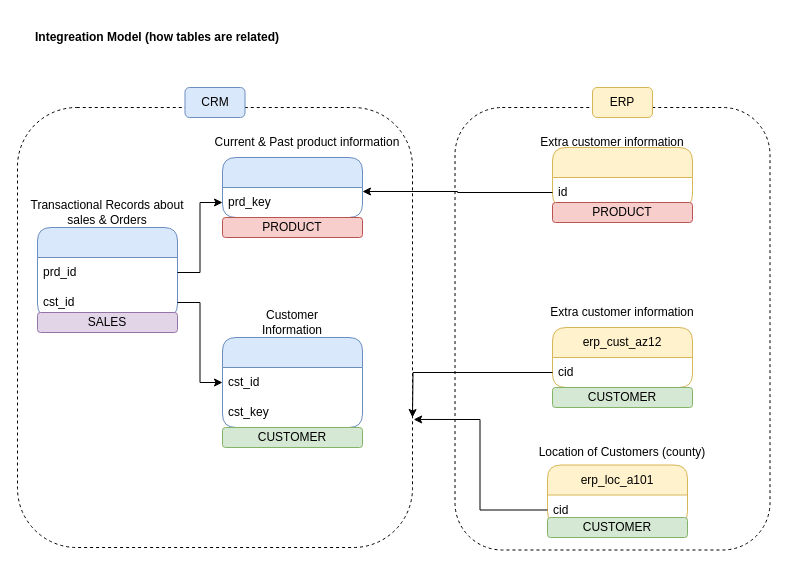
Image size: 788x567. Some labels were removed from this diagram. The shapes that lost their labels are listed below. From the top down, each one's box as (x1, y1, x2, y2) in pixels, then its label:
(222, 156, 362, 218): crm_prd_info
(552, 146, 692, 208): erp_px_cat_g1v2
(36, 226, 178, 318): crm_sales_details
(222, 336, 362, 428): crm_cust_info
